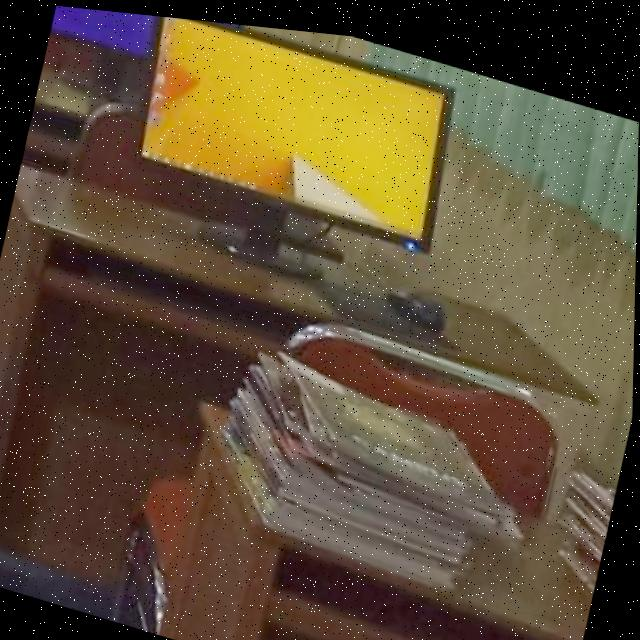onscreen: (143, 13, 453, 243), (52, 5, 155, 52)
